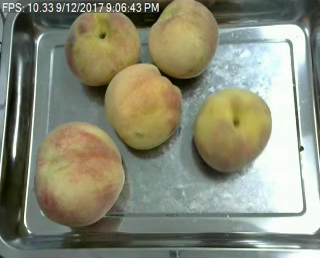Peach: (33, 121, 124, 228), (194, 87, 272, 172), (104, 63, 181, 149), (64, 4, 142, 87), (147, 0, 219, 78)
